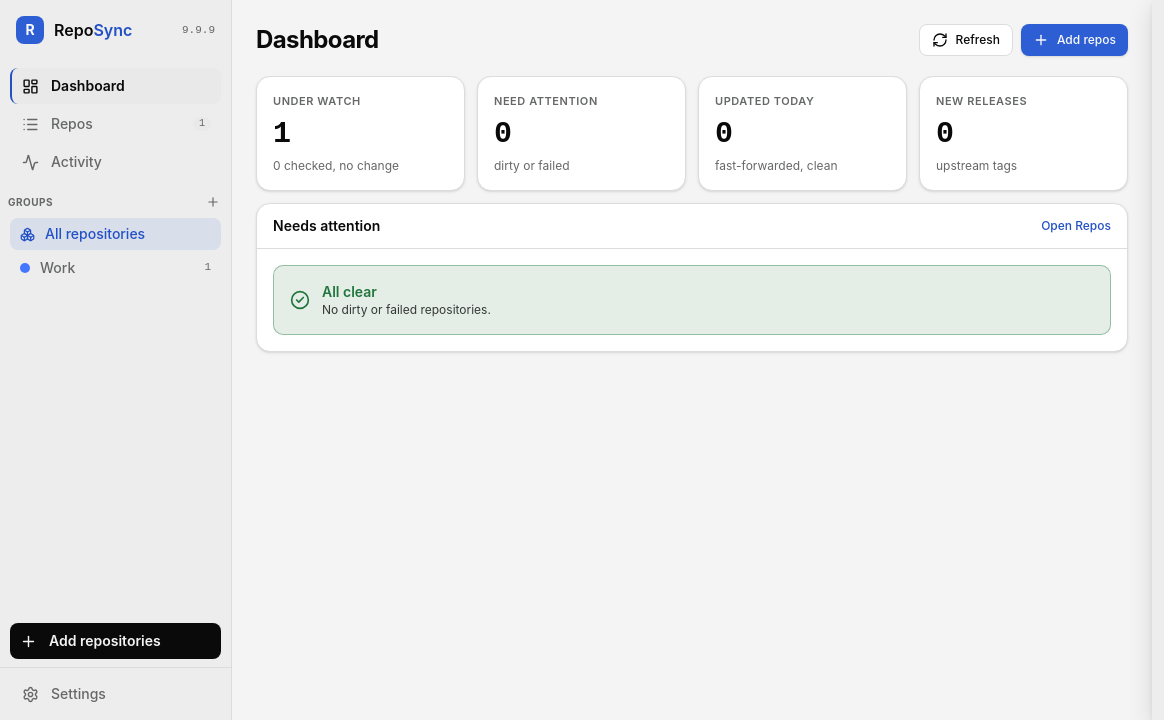
Scenario: AppShell sidebar › exactly one destination reads as current at any time, even with a group filter still selected on a different screen
The image size is (1164, 720).
Expected: the heading "Dashboard" is shown, [256, 26, 379, 54]
Step 1. Click the button "Work" → (107, 268), box [10, 252, 204, 284]
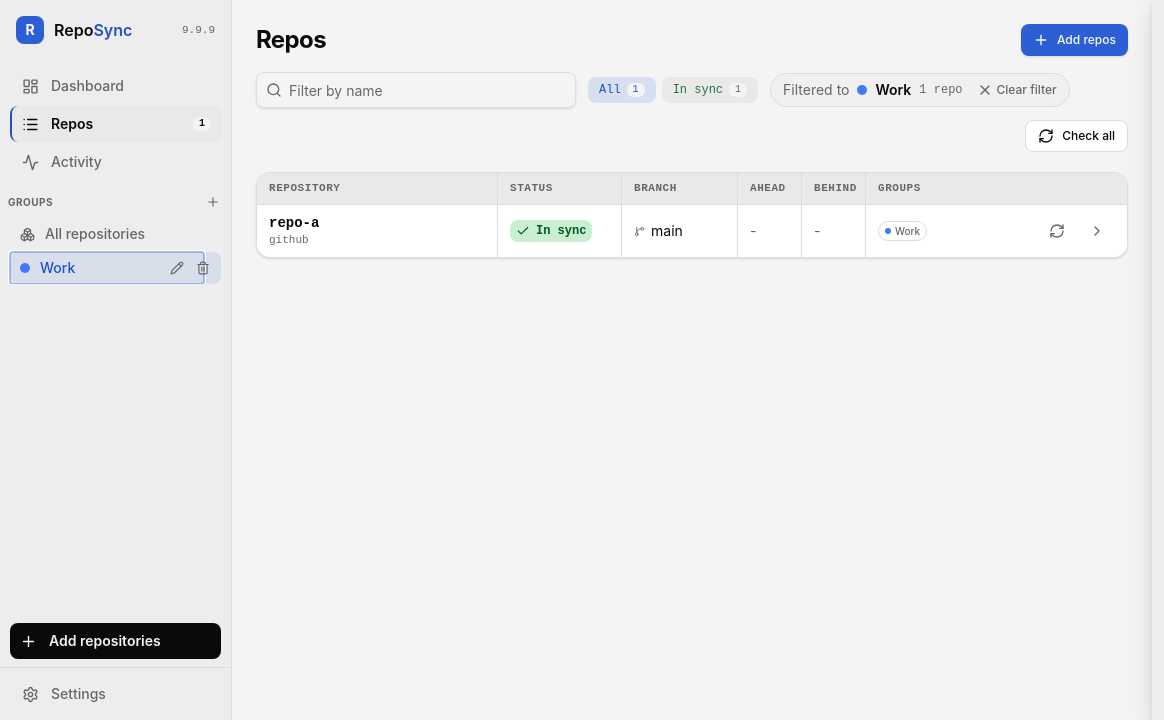
Expected: the heading "Repos" is shown, [256, 26, 326, 54]
// Navigate away while the group filter stays selected.
Step 2. Click the button "Dashboard" → (116, 86), box [10, 68, 221, 104]
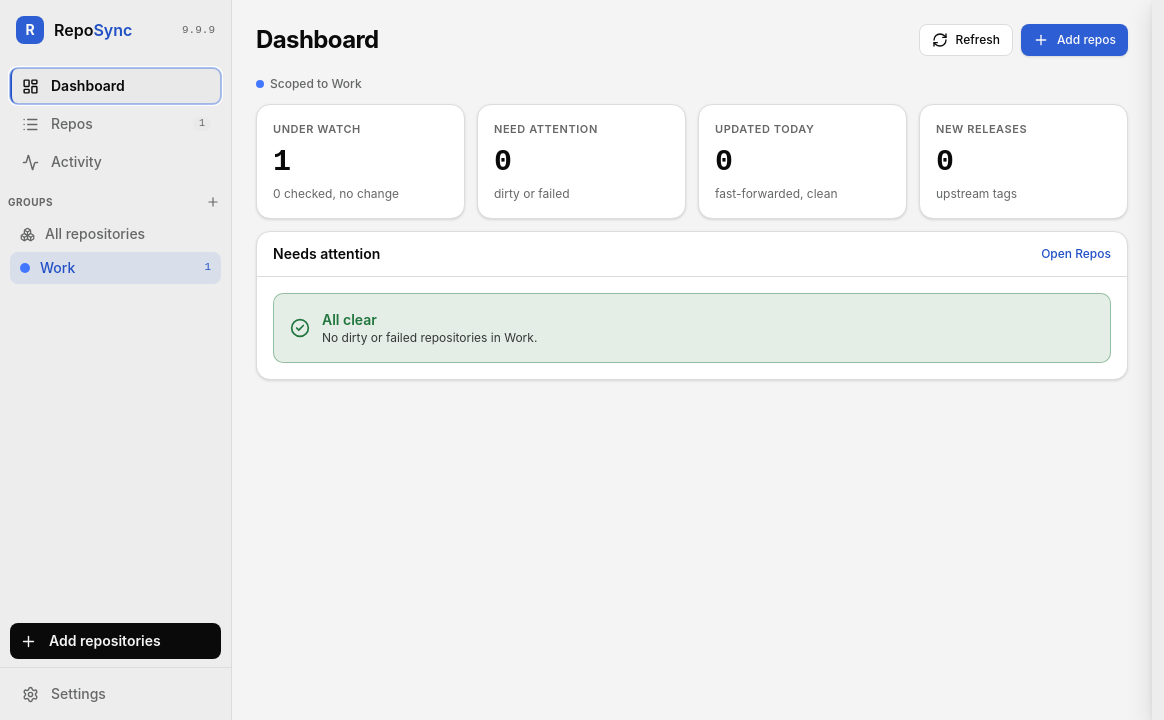
Expected: the heading "Dashboard" is shown, [256, 26, 379, 54]
